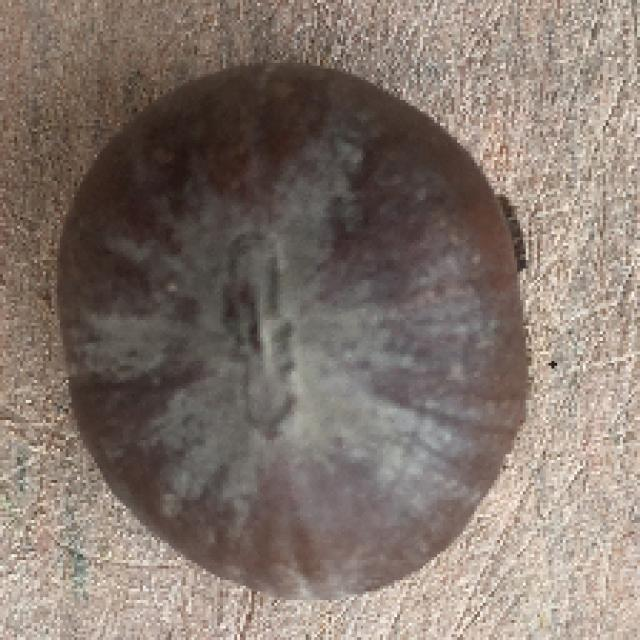qualityHazelnut: (49, 53, 542, 602)
